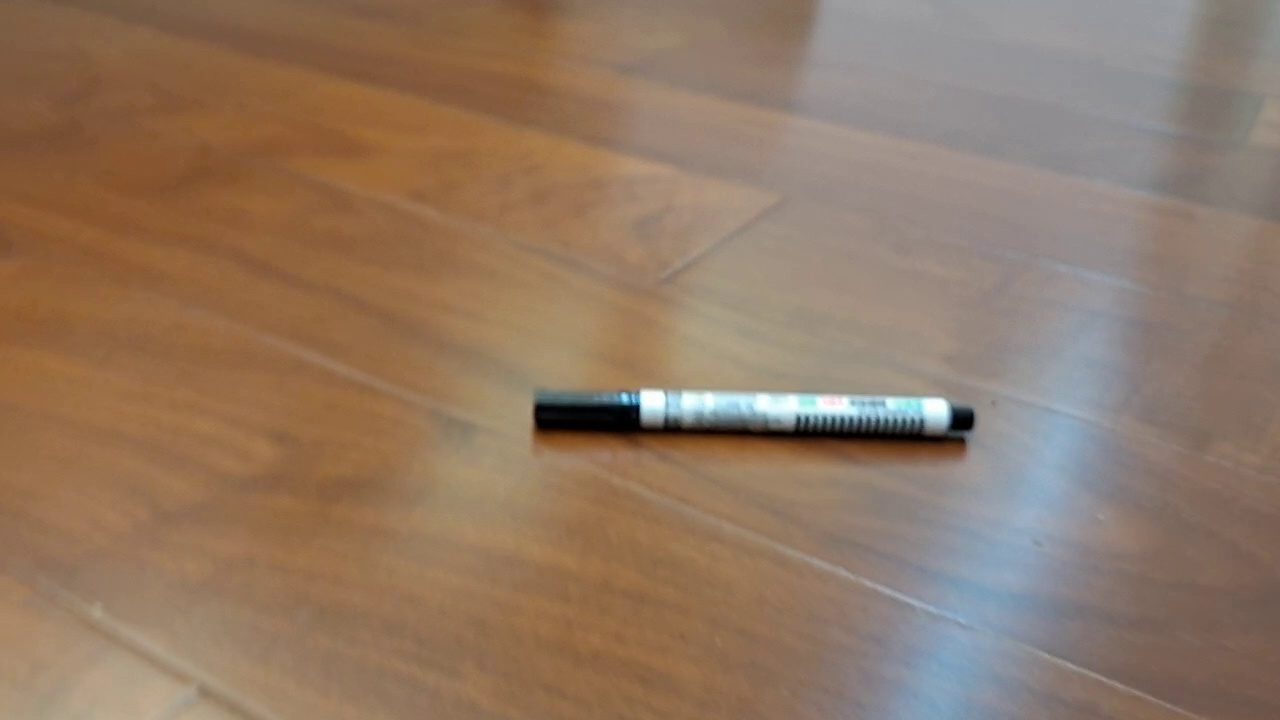pen: (533, 388, 975, 440)
